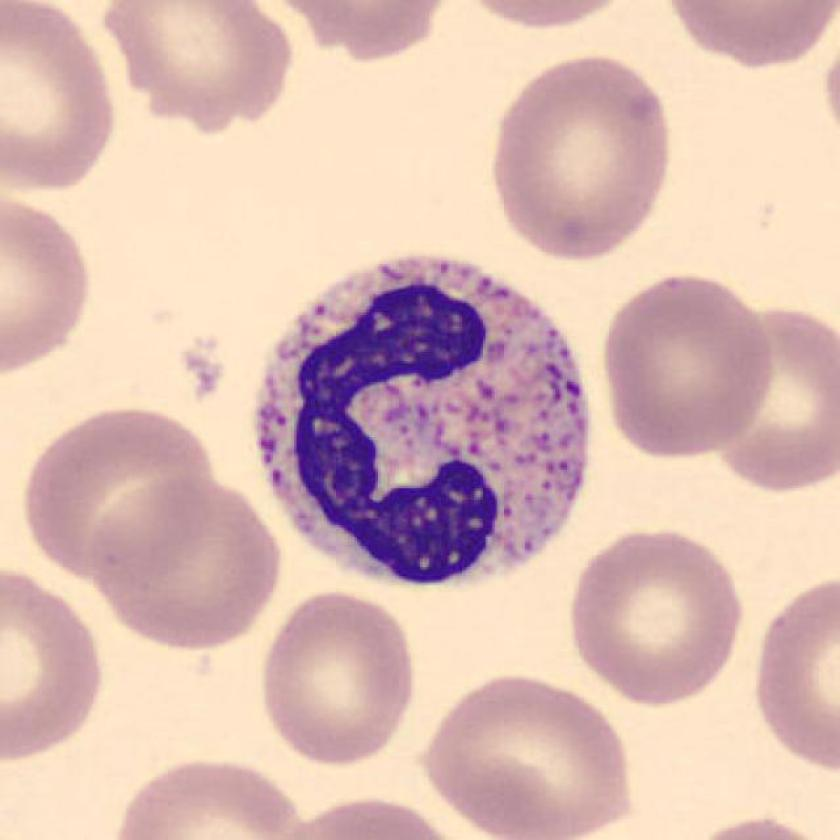neutrophil: (256, 257, 592, 586)
